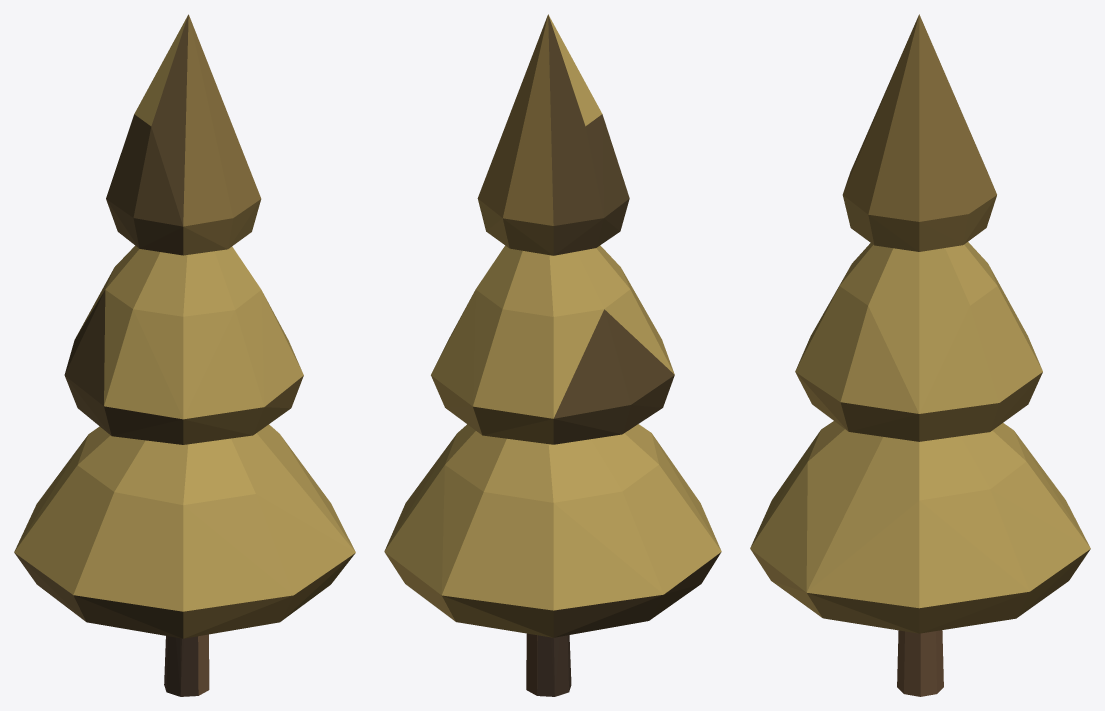
The model's file is TW_TREE_TIERED_SLIM_A_LOD1.glb.
The picture shows the model from 3 angles, left to right: view 1: azimuth 30°, elevation 25°; view 2: azimuth 150°, elevation 25°; view 3: azimuth 270°, elevation 25°; orthographic projection.
Visible parts, largest first — view 1: TW_TREE_TIERED_SLIM_A_LOD1; view 2: TW_TREE_TIERED_SLIM_A_LOD1; view 3: TW_TREE_TIERED_SLIM_A_LOD1.
Boxes of the visible parts, bbox=[...] form: TW_TREE_TIERED_SLIM_A_LOD1: bbox=[14, 14, 355, 696]; TW_TREE_TIERED_SLIM_A_LOD1: bbox=[384, 14, 721, 696]; TW_TREE_TIERED_SLIM_A_LOD1: bbox=[750, 14, 1090, 696].
Size of the model in its own units: 1.7 by 3.8 by 1.74.
1 material, 1 textured.
